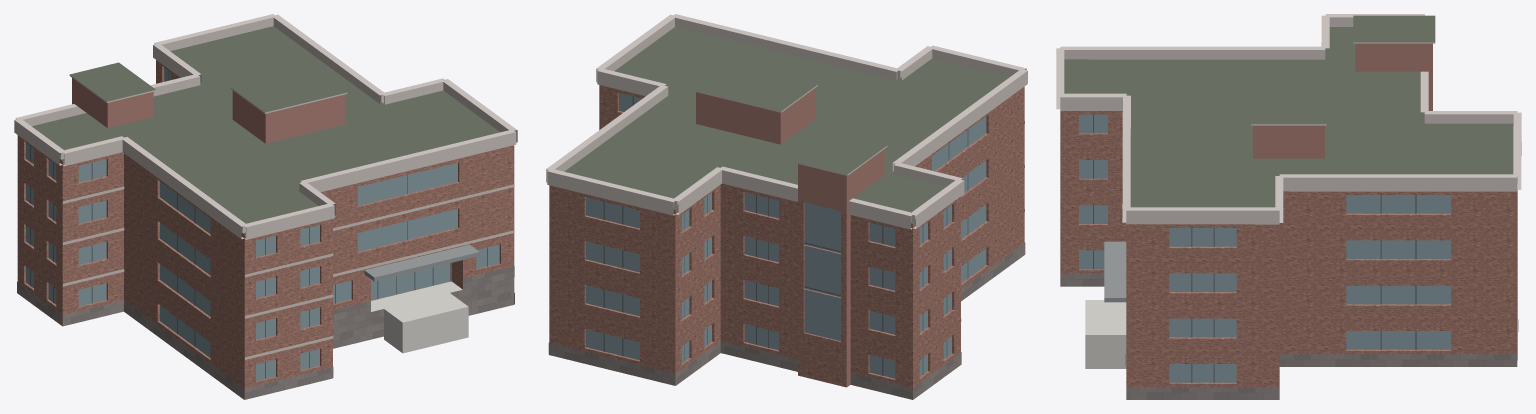
3 views of the same model, side by side, from view 1: azimuth 30°, elevation 25°; view 2: azimuth 150°, elevation 25°; view 3: azimuth 270°, elevation 25° (orthographic). The views are drawn at different scales.
Parts seen in each view (by area): view 1: b901__wall, b901__roof, b901__trim, b901__glass, b901__base, b901__wall2, b901__entranceStair, b901__canopy, b901__frame; view 2: b901__wall, b901__roof, b901__trim, b901__glass, b901__wall2, b901__base, b901__frame; view 3: b901__wall, b901__roof, b901__trim, b901__glass, b901__base, b901__wall2, b901__entranceStair, b901__canopy, b901__frame.
Boxes of the visible parts, box(x1,y1,x2,y2) form: b901__wall: box(17, 60, 514, 399); b901__roof: box(32, 26, 513, 399); b901__trim: box(14, 14, 517, 359); b901__glass: box(26, 68, 499, 380); b901__base: box(17, 266, 514, 399); b901__wall2: box(72, 78, 344, 143); b901__entranceStair: box(371, 281, 468, 353); b901__canopy: box(364, 244, 479, 281); b901__frame: box(30, 71, 487, 378); b901__wall: box(549, 85, 1024, 399); b901__roof: box(564, 27, 1009, 385); b901__trim: box(546, 14, 1027, 321); b901__glass: box(586, 93, 986, 378); b901__wall2: box(696, 88, 884, 387); b901__base: box(548, 242, 1025, 399); b901__frame: box(603, 96, 968, 375); b901__wall: box(1060, 111, 1517, 387); b901__roof: box(1064, 15, 1513, 207); b901__trim: box(1056, 14, 1521, 278); b901__glass: box(1079, 114, 1450, 382); b901__base: box(1060, 274, 1518, 399); b901__wall2: box(1253, 43, 1432, 158); b901__entranceStair: box(1085, 300, 1126, 368); b901__canopy: box(1104, 241, 1126, 302); b901__frame: box(1093, 114, 1416, 382).
Size of the model in its own units: 33.5 by 17.85 by 33.49.
10 materials, 2 textured.
